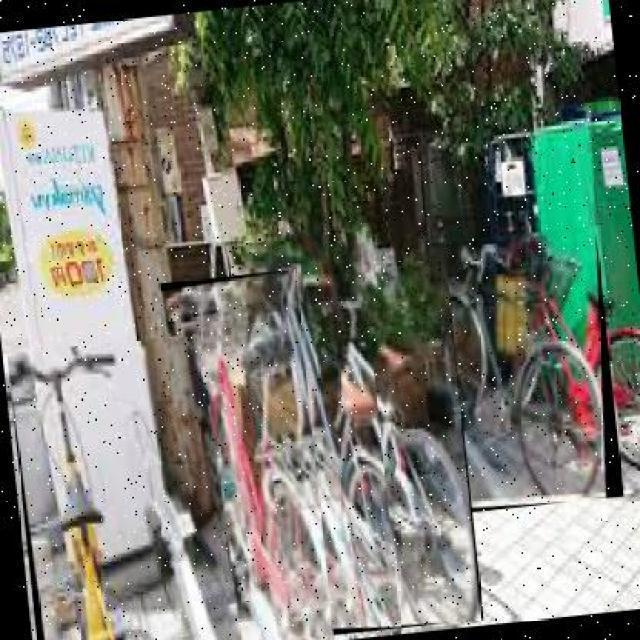bicycle: (224, 232, 403, 640), (6, 334, 234, 640), (156, 269, 335, 640), (310, 262, 484, 636), (426, 231, 625, 517)
